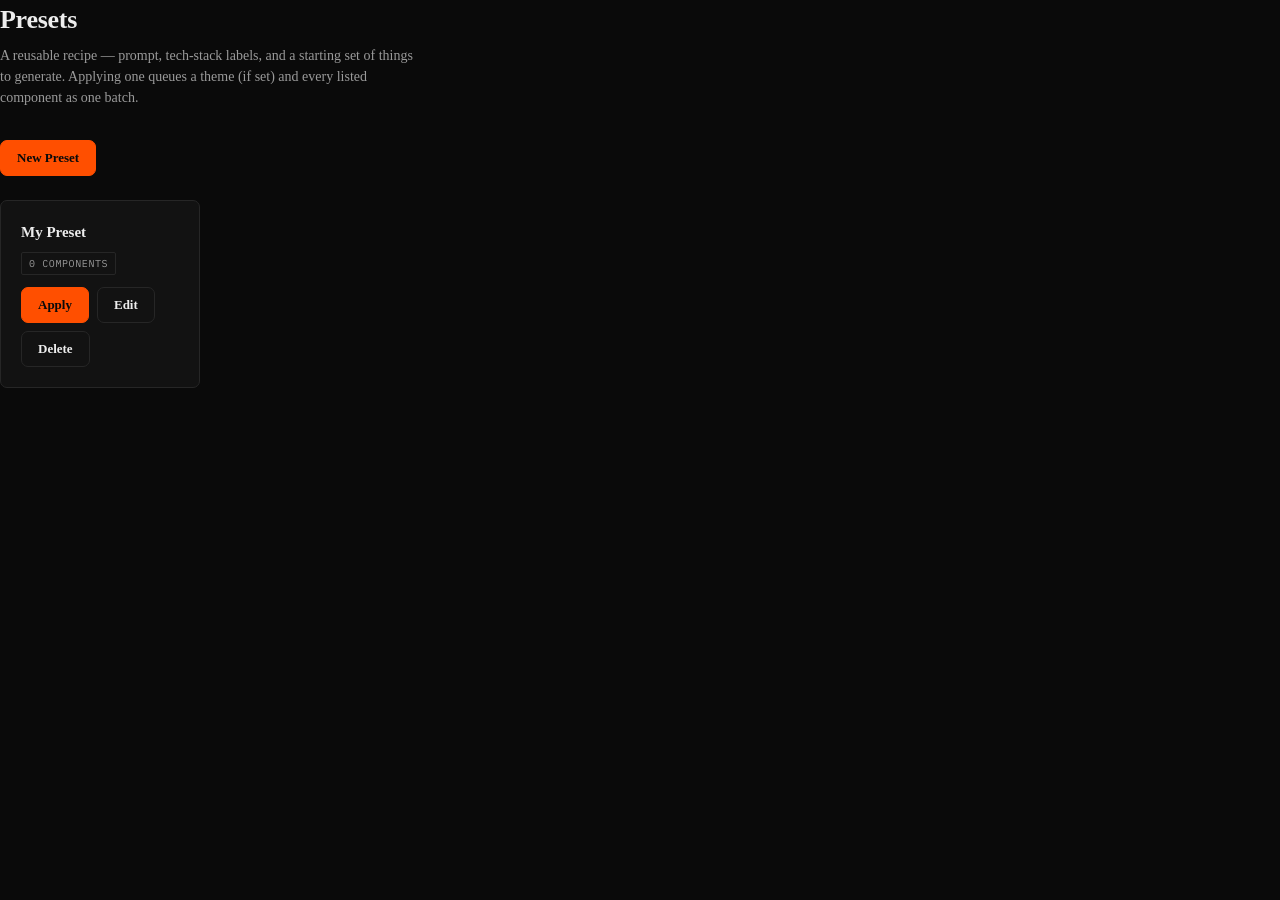
Test: Apply-preset modal accessibility › has dialog semantics and closes on Escape
The image size is (1280, 900).
Click the button "Apply".
click(55, 304)  # box [21, 286, 89, 322]
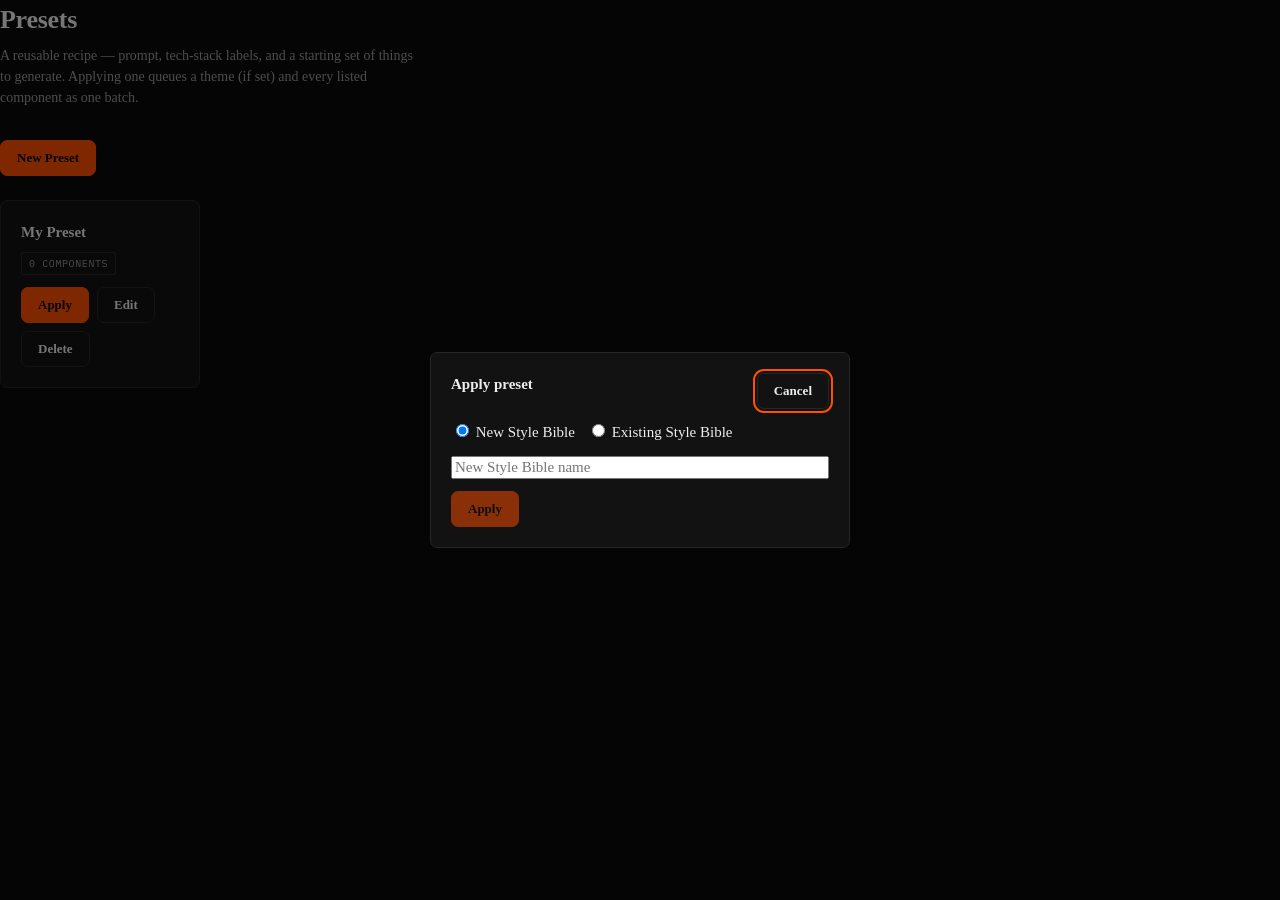
Press Escape in the button "Cancel", box [757, 373, 829, 409]
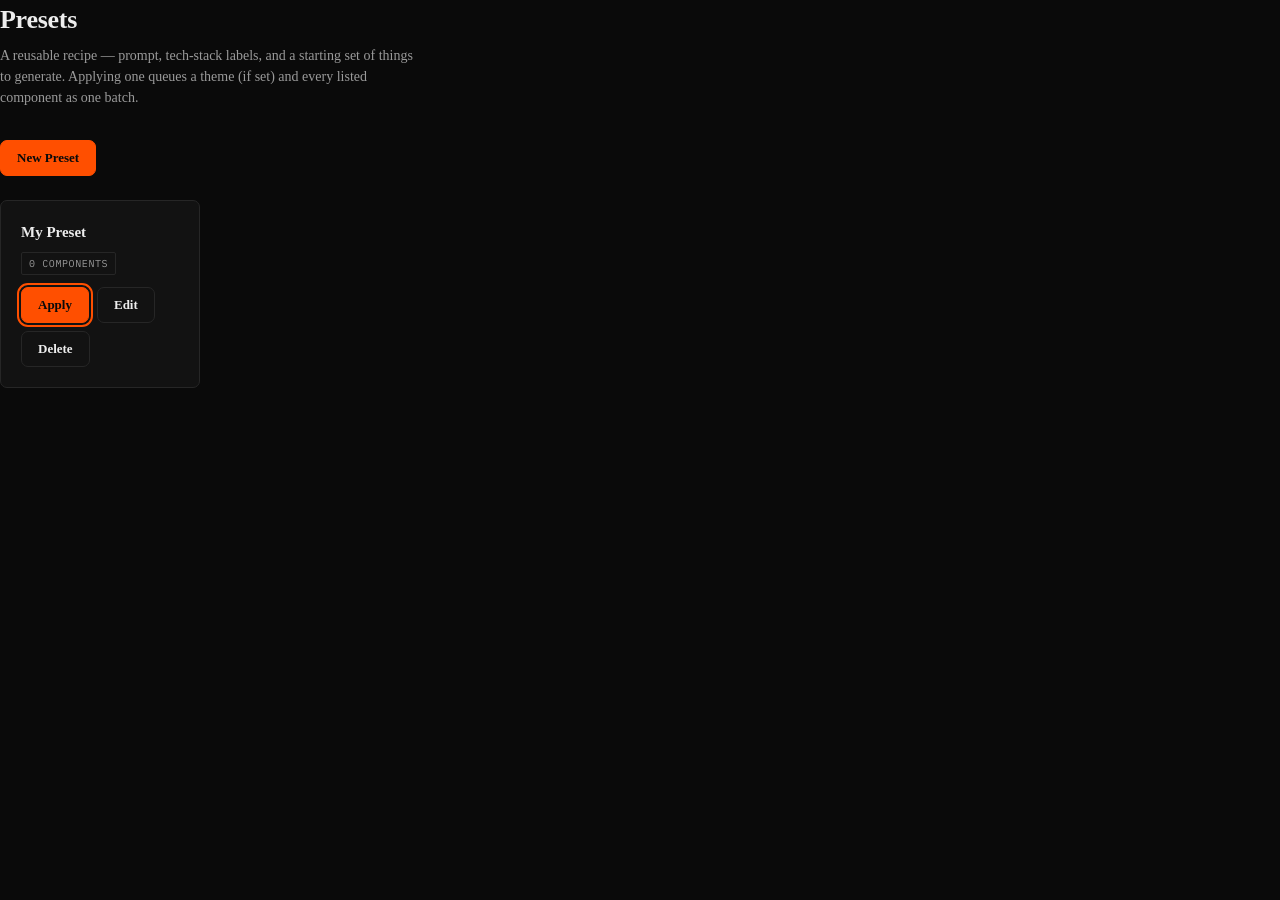
expect the dialog is gone: met
